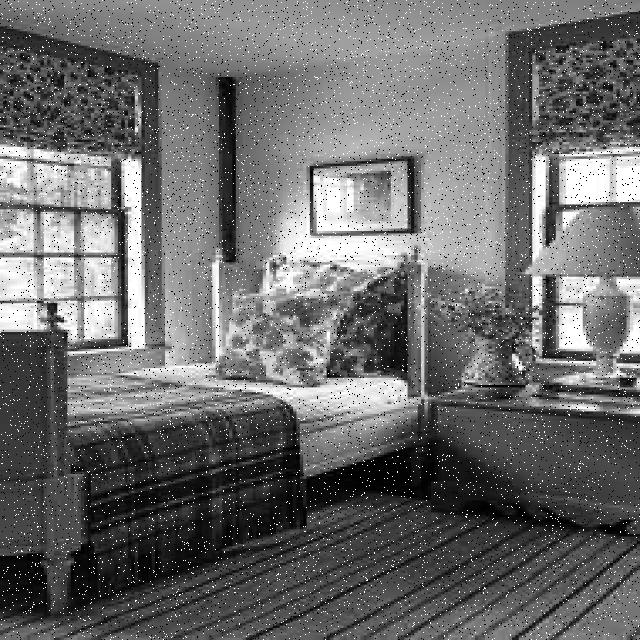bed: (31, 261, 426, 469)
